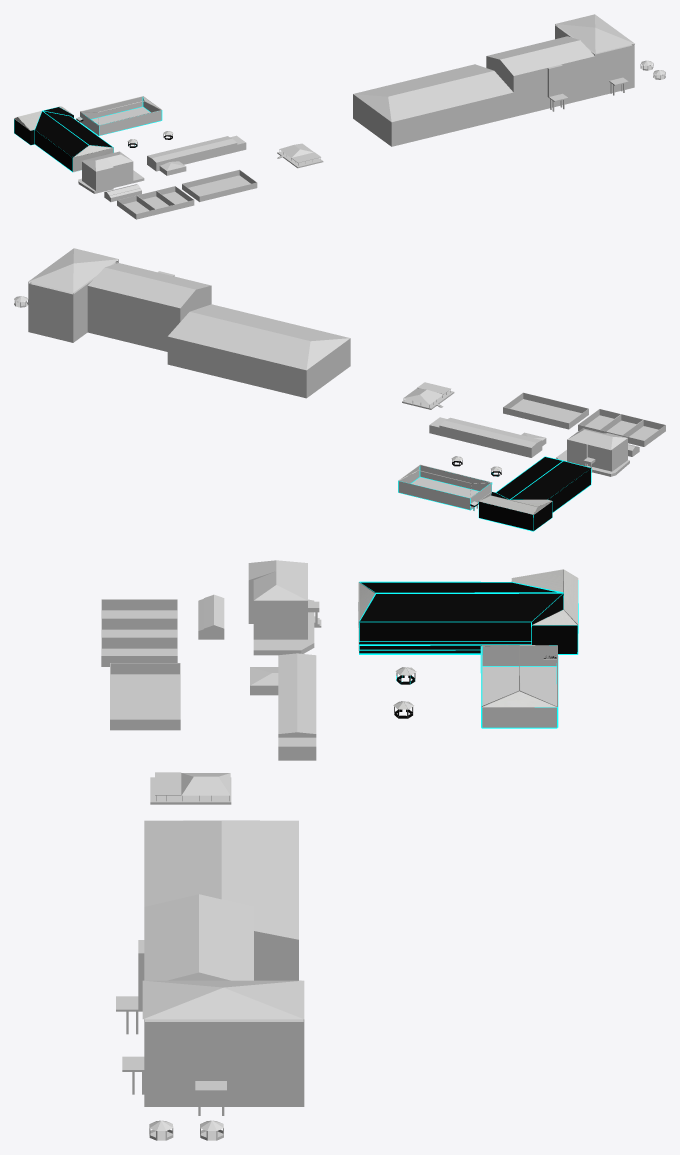
3 renders of one model, top to bottom at view 1: azimuth 30°, elevation 25°; view 2: azimuth 150°, elevation 25°; view 3: azimuth 270°, elevation 25°, orthographic. The views are drawn at different scales.
Parts seen in each view (by area): view 1: SketchUp.048, SketchUp.002, SketchUp, SketchUp.030, SketchUp.022, SketchUp.029, SketchUp.003, SketchUp.024, SketchUp.028, SketchUp.031, SketchUp.023, SketchUp.026 (+2 smaller); view 2: SketchUp.048, SketchUp.002, SketchUp, SketchUp.030, SketchUp.022, SketchUp.029, SketchUp.003, SketchUp.028, SketchUp.031, SketchUp.024, SketchUp.026, SketchUp.025 (+1 smaller); view 3: SketchUp.048, SketchUp.002, SketchUp, SketchUp.022, SketchUp.030, SketchUp.029, SketchUp.003, SketchUp.031, SketchUp.026, SketchUp.025, SketchUp.027, SketchUp.023 (+3 smaller).
Part boxes in pixels (box(x1,y1,x2,y2)): SketchUp.048: box(353, 14, 634, 146); SketchUp.002: box(14, 107, 113, 171); SketchUp: box(76, 96, 161, 135); SketchUp.030: box(147, 135, 246, 175); SketchUp.022: box(78, 151, 144, 193); SketchUp.029: box(182, 170, 256, 196); SketchUp.003: box(14, 96, 172, 172); SketchUp.024: box(117, 186, 194, 219); SketchUp.028: box(182, 169, 257, 201); SketchUp.031: box(279, 143, 320, 162); SketchUp.023: box(104, 184, 141, 201); SketchUp.026: box(137, 191, 174, 208); SketchUp.048: box(28, 248, 350, 398); SketchUp.002: box(479, 457, 590, 530); SketchUp: box(398, 465, 491, 510); SketchUp.030: box(429, 417, 546, 457); SketchUp.022: box(556, 428, 629, 476); SketchUp.029: box(504, 393, 587, 422); SketchUp.003: box(398, 456, 591, 531); SketchUp.028: box(503, 392, 588, 429); SketchUp.031: box(403, 382, 450, 404); SketchUp.024: box(578, 409, 665, 446); SketchUp.026: box(600, 414, 642, 435); SketchUp.025: box(622, 420, 664, 440); SketchUp.048: box(116, 820, 304, 1106); SketchUp.002: box(359, 570, 577, 653); SketchUp: box(482, 646, 556, 727); SketchUp.022: box(248, 560, 321, 655); SketchUp.030: box(250, 653, 316, 760); SketchUp.029: box(110, 663, 179, 719); SketchUp.003: box(358, 569, 578, 728); SketchUp.031: box(155, 772, 230, 795); SketchUp.026: box(102, 618, 177, 637); SketchUp.025: box(102, 599, 177, 617); SketchUp.027: box(102, 637, 177, 655); SketchUp.023: box(198, 594, 224, 639).
Bounding box in the file's own units: 50.23 × 4.42 × 18.86.
33 materials, 29 textured.
